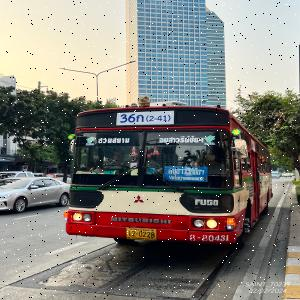BMTA-bus: (63, 105, 272, 246)
Bus Line Number: (115, 113, 176, 124)
Bus Side Number: (187, 233, 230, 243)
Destination Sign: (165, 165, 209, 182)
